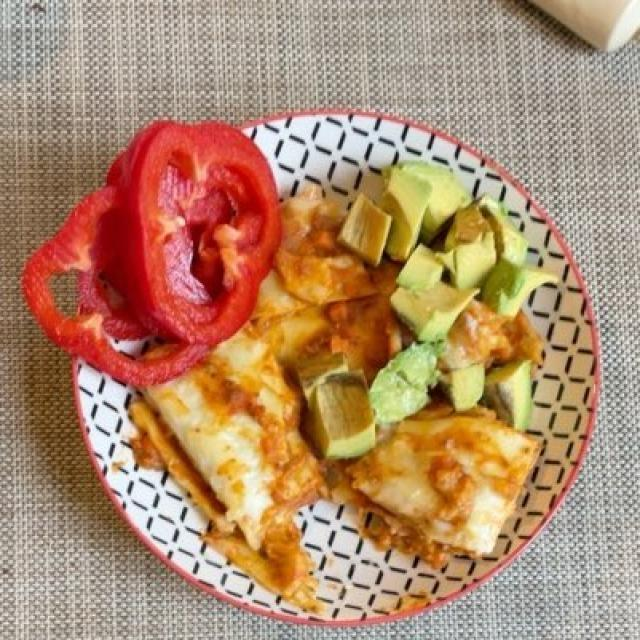avocado: (313, 163, 548, 452)
bell-pepper: (26, 129, 294, 384)
lasagne: (126, 203, 561, 622)
